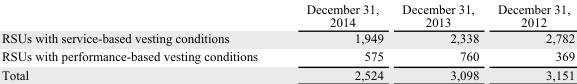table: (0, 1, 574, 81)
table column: (0, 1, 281, 81), (281, 1, 392, 81), (392, 1, 487, 81), (487, 1, 574, 81)
table column header: (0, 1, 574, 29)
table row: (0, 1, 574, 29), (0, 29, 574, 47), (0, 47, 574, 65), (0, 65, 574, 81)
